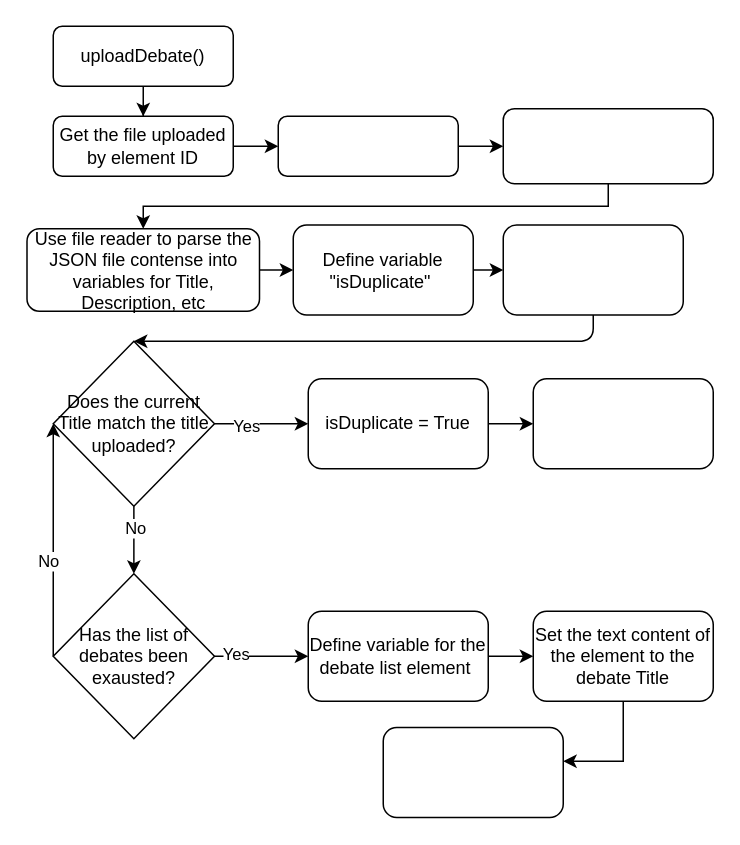
Some shapes in this 740 by 845 pixel diagram are drawn without their labels. Here are the shapes that lost their labels. From the top down, the box of each, then its label:
(277, 115, 458, 176): Save into a variable called fileInput
(502, 107, 713, 184): Create a file reader object
(502, 224, 683, 315): For the number of debates in the list
(532, 377, 713, 469): Break the loop
(382, 726, 563, 818): Appened item to the container
